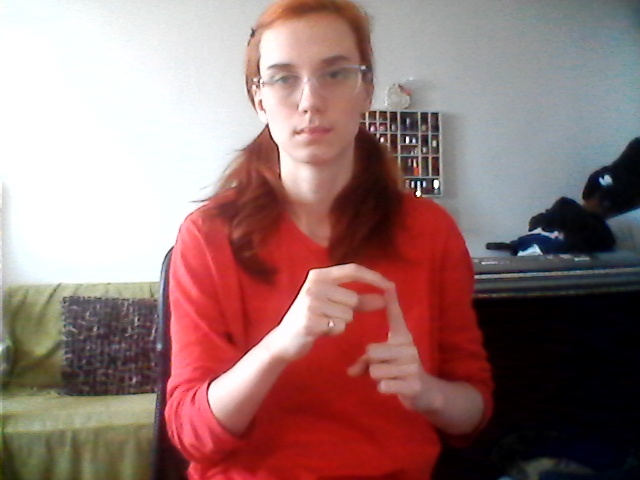p: (291, 253, 419, 410)
